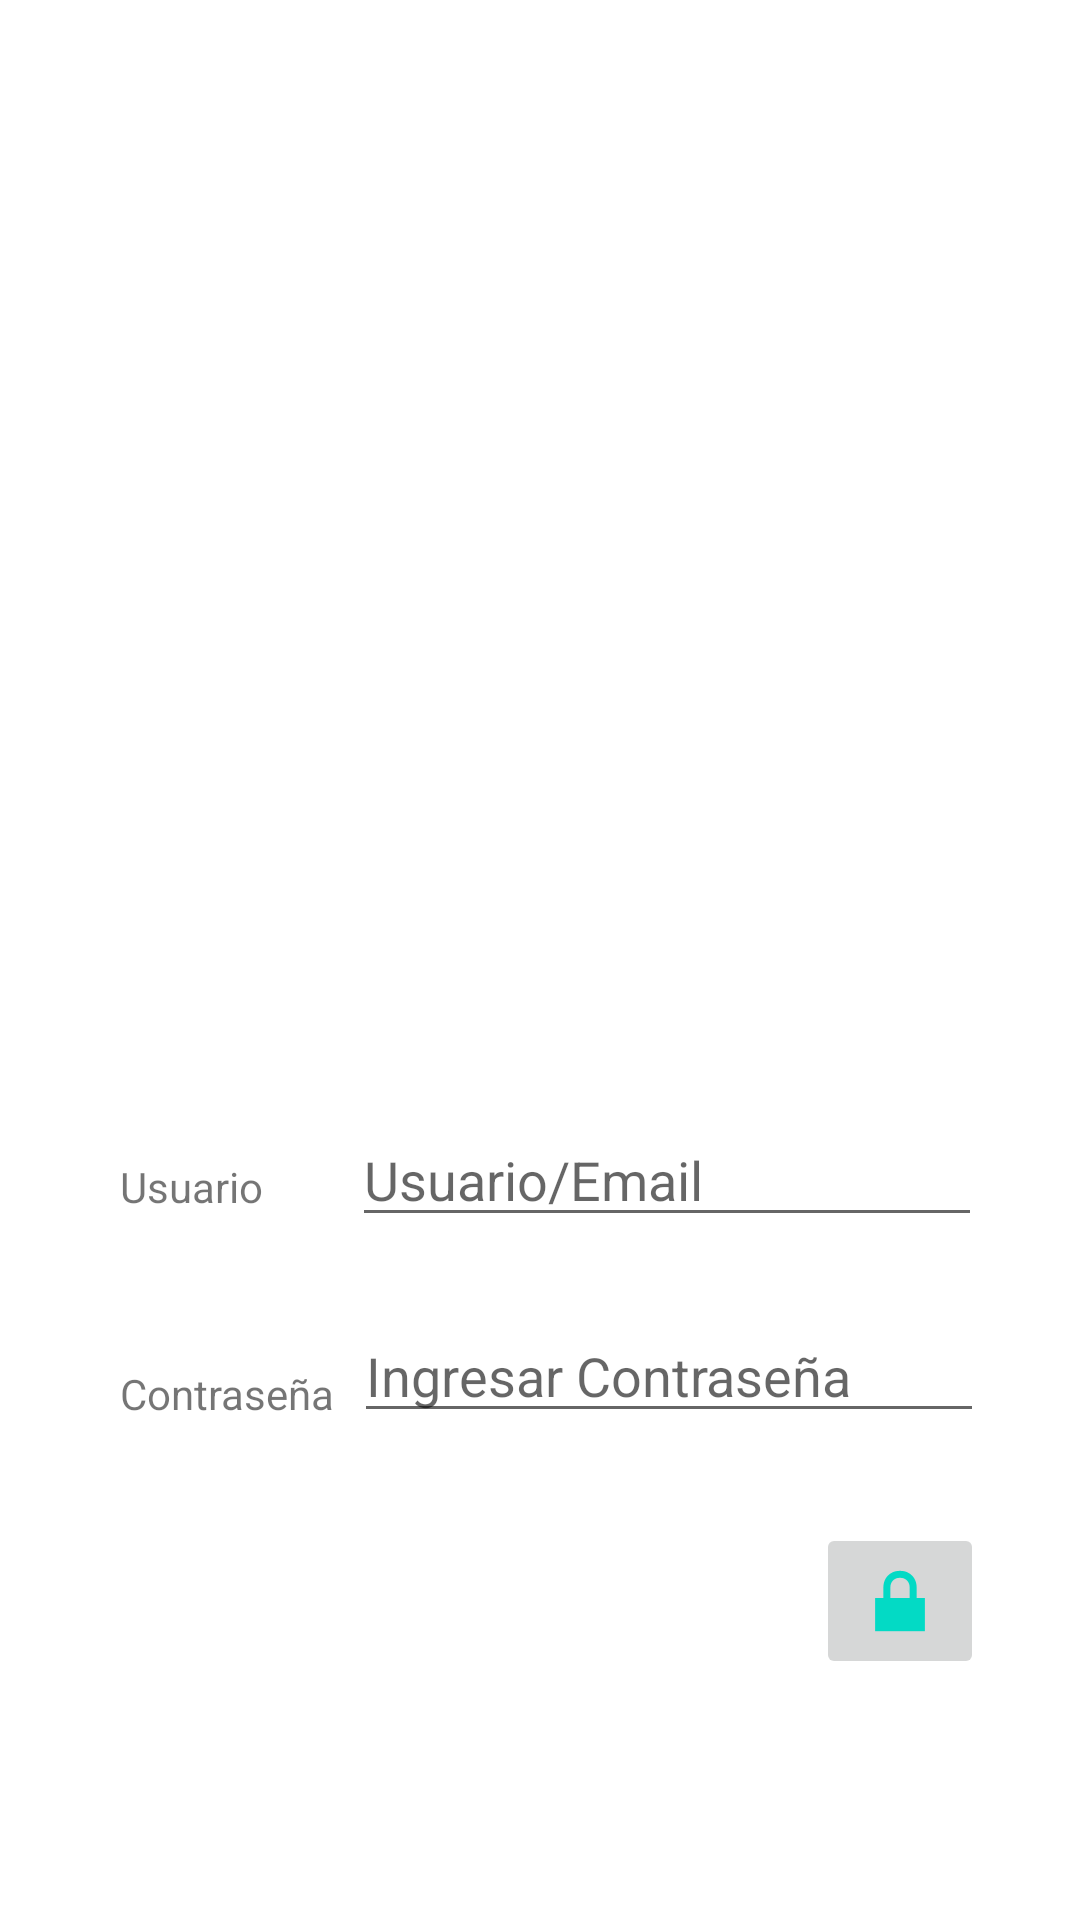

Point at icon controls on the screen. Image size 1080 x 1920, points as point (x, y).
lock: point (900, 1601)
